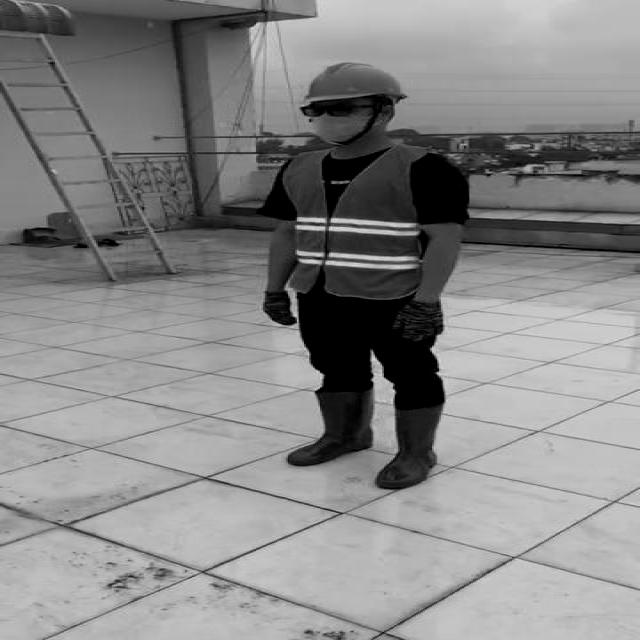boots: (288, 388, 377, 467), (373, 399, 439, 493)
face_mask: (297, 102, 371, 142)
glasses: (297, 99, 368, 120)
hand_glove: (389, 302, 452, 343), (258, 290, 300, 328)
head_helmet: (294, 60, 412, 104)
person: (250, 55, 481, 494)
vest: (281, 145, 443, 301)
